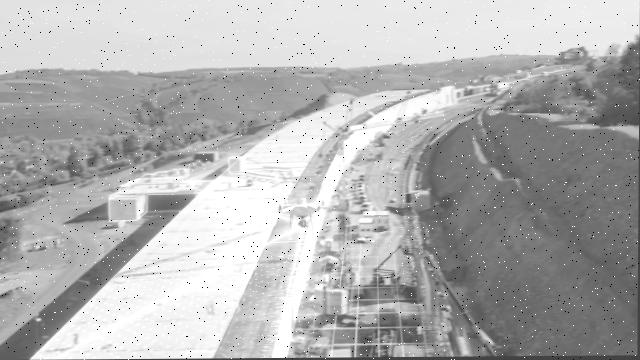drone: (275, 197, 332, 232)
